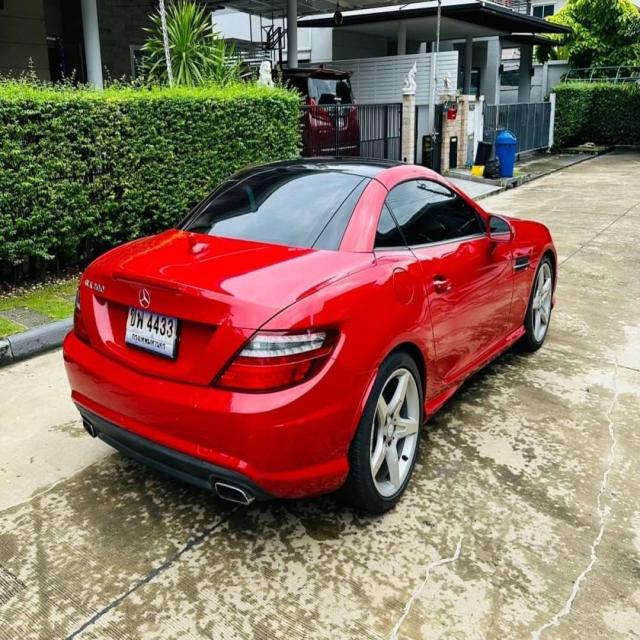license_plate: (120, 293, 186, 364)
